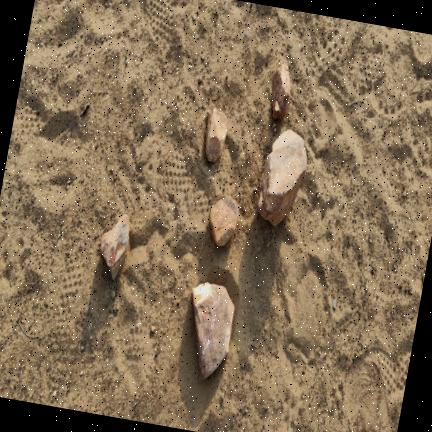Rocks: (258, 128, 307, 224), (193, 282, 235, 377), (101, 213, 129, 277), (210, 196, 239, 245), (206, 107, 228, 161), (272, 63, 291, 118)
